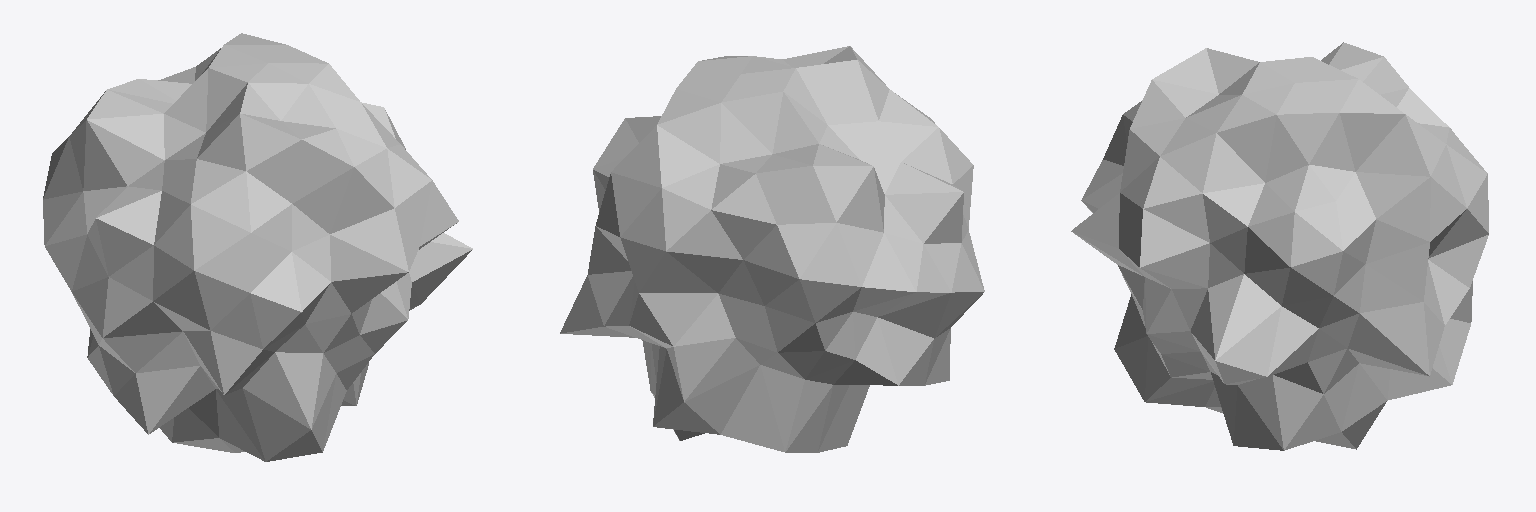
File: asteroid2_collider.obj
3 views of the same model, side by side, from view 1: azimuth 30°, elevation 25°; view 2: azimuth 150°, elevation 25°; view 3: azimuth 270°, elevation 25° (orthographic).
Visible parts, largest first — view 1: Collider2; view 2: Collider2; view 3: Collider2.
Part boxes in pixels (bbox=[...]): Collider2: bbox=[43, 33, 472, 461]; Collider2: bbox=[560, 46, 984, 452]; Collider2: bbox=[1071, 42, 1488, 450].
Size of the model in its own units: 2.16 by 2.06 by 2.11.